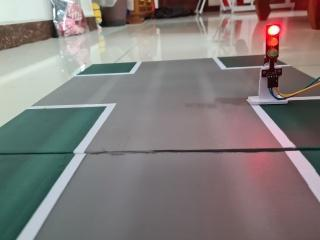red: (258, 15, 288, 74)
